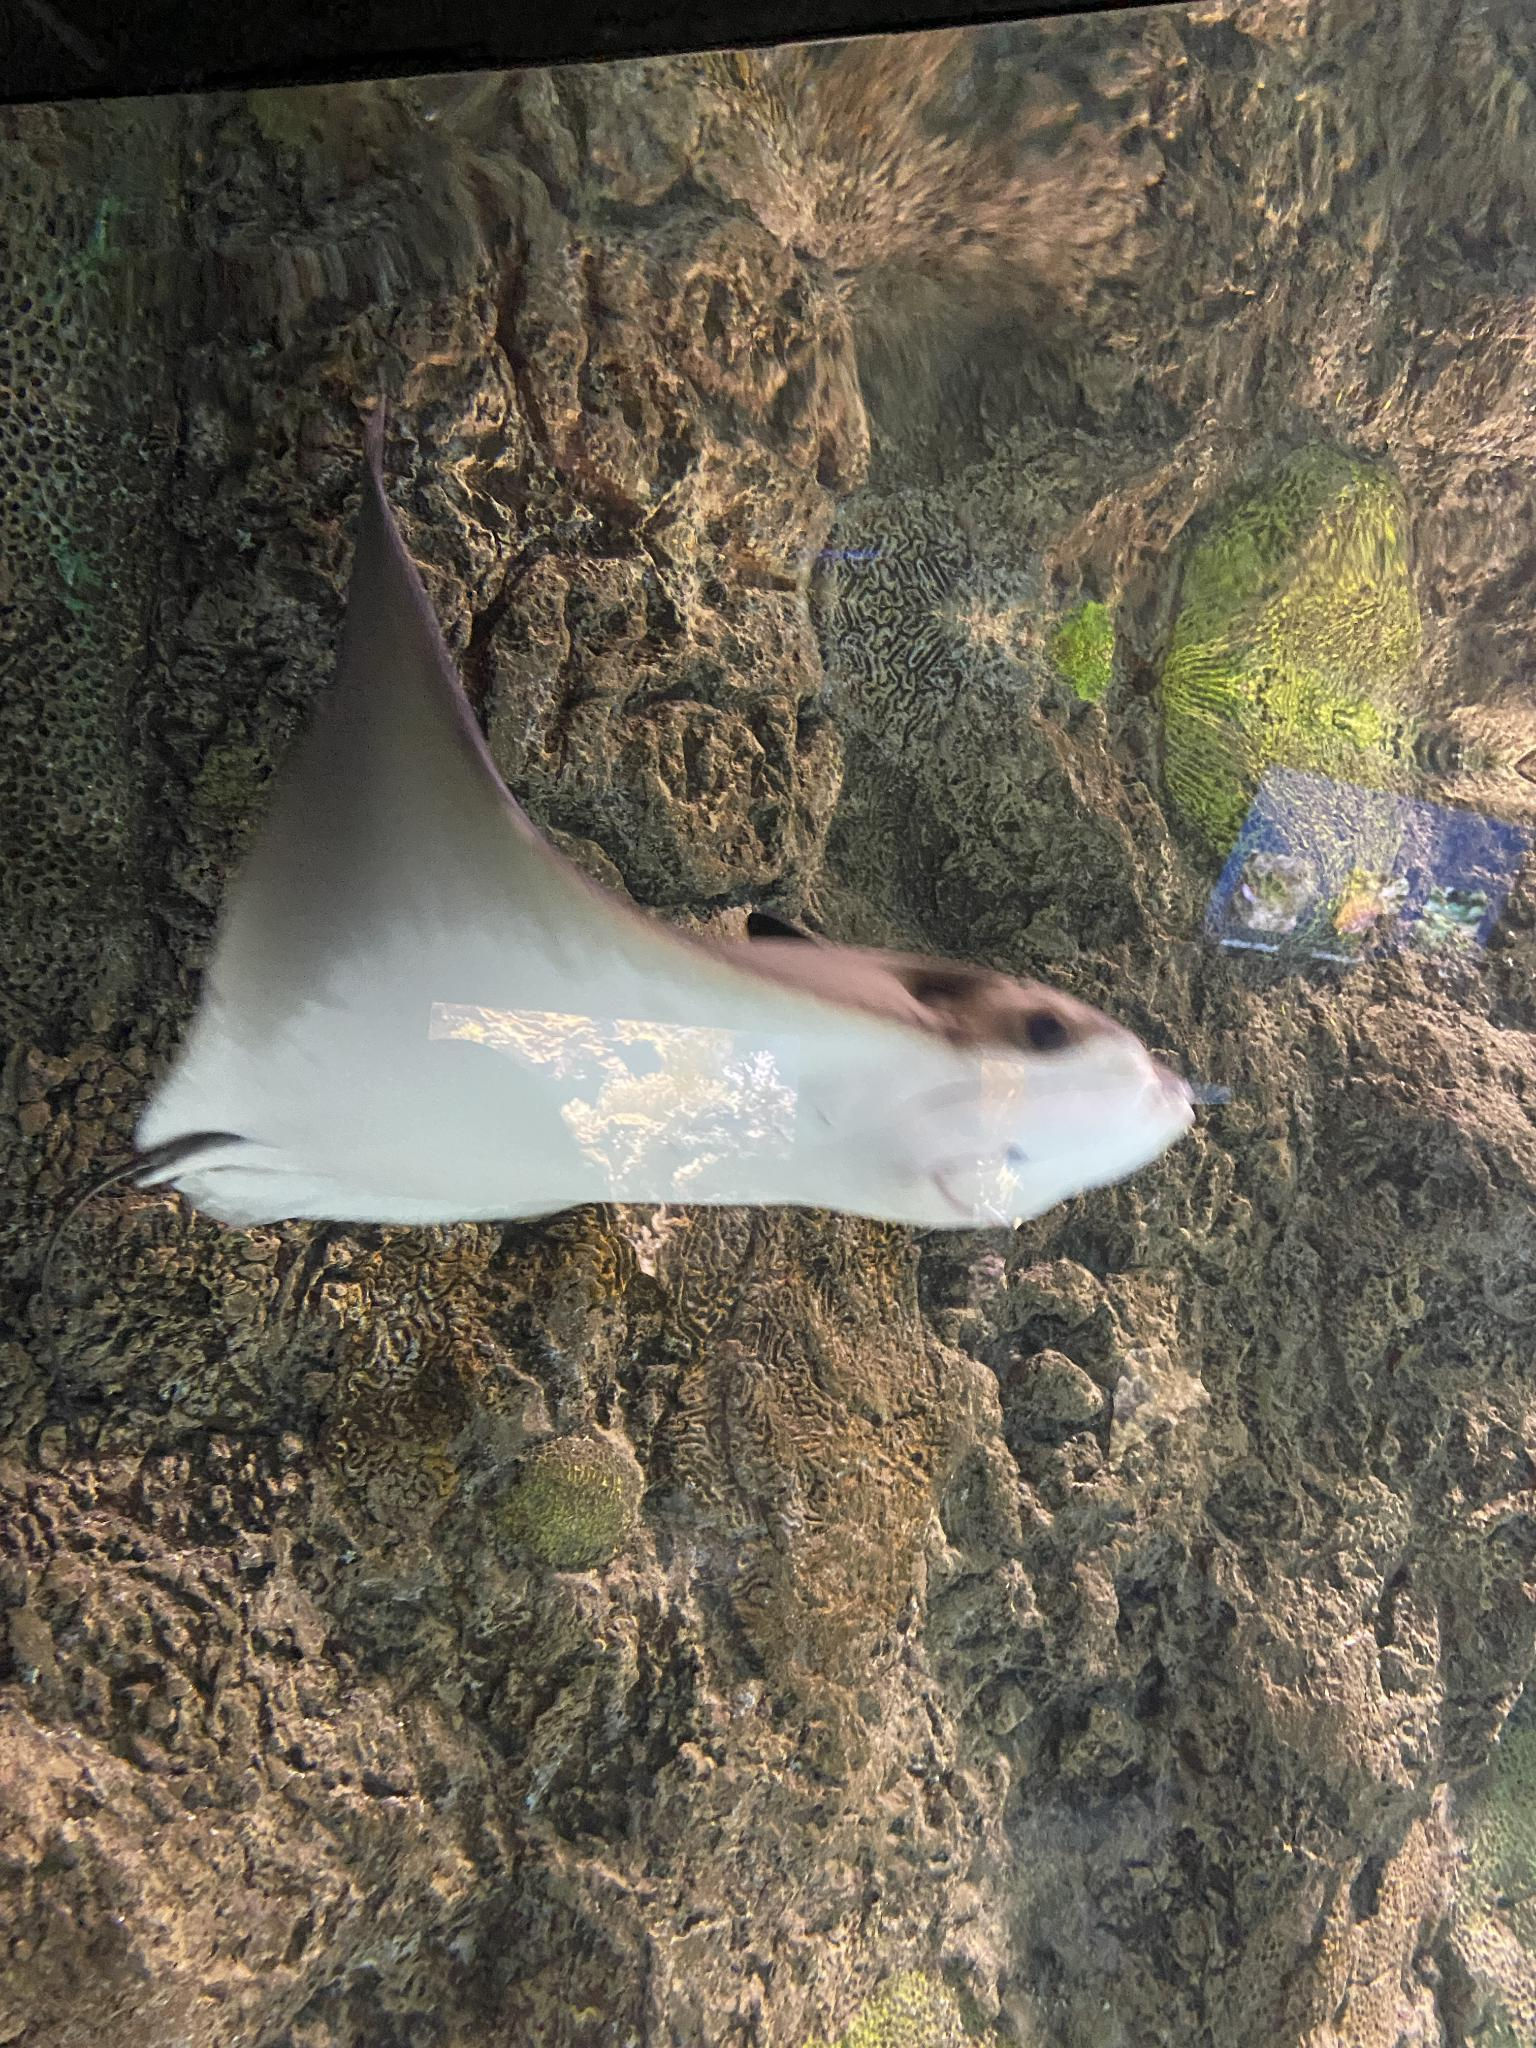fish: (381, 77, 616, 285), (744, 85, 1012, 239), (1181, 92, 1325, 190)
stingray: (144, 364, 1199, 1227)
